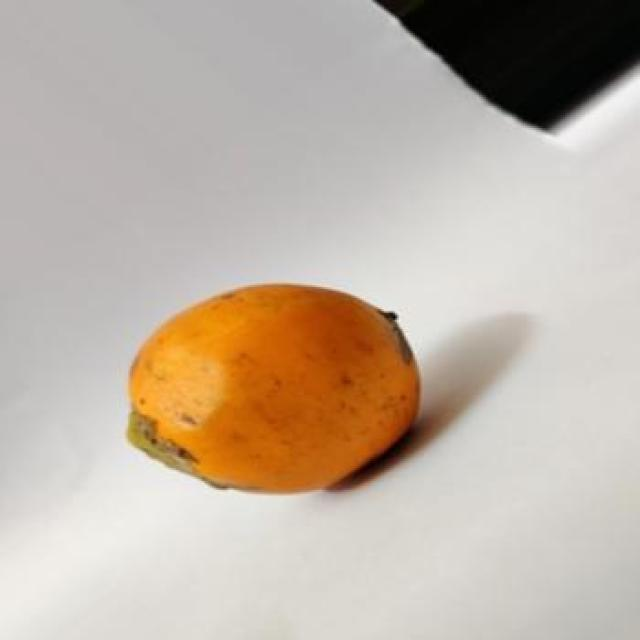good: (124, 285, 421, 497)
